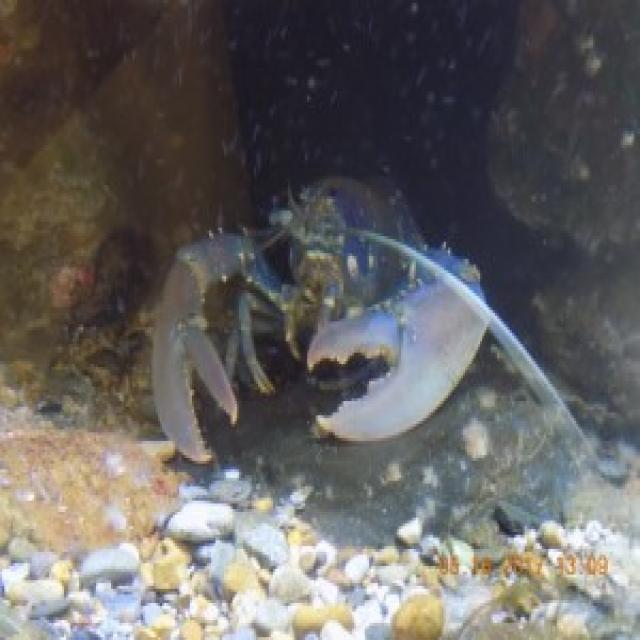lobsters: (83, 188, 562, 544)
